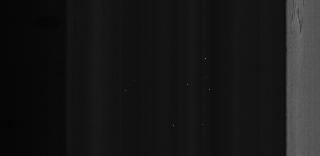silk spot: (288, 0, 310, 40)
